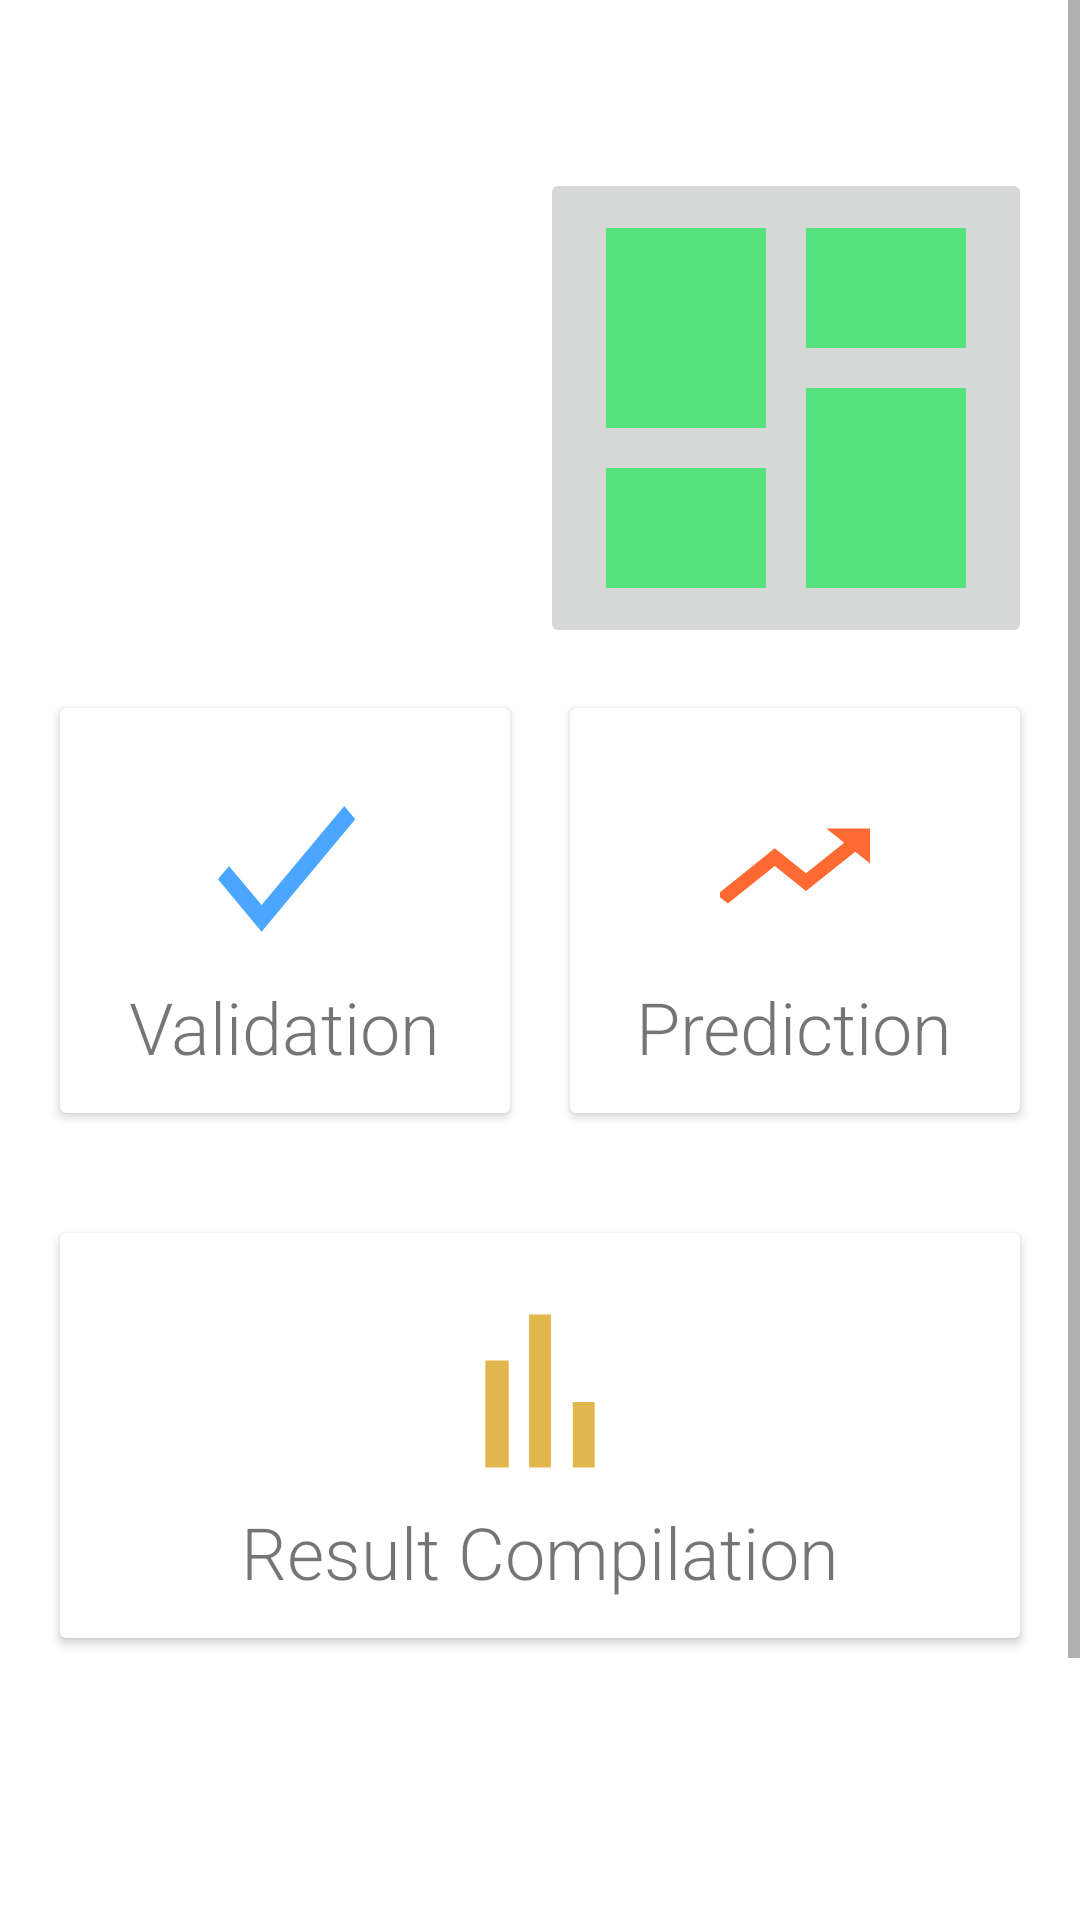

Locate icon controls on the screen. Image size 1080px x 1920px, boxes as detection(x1, y1, x2, y2).
results: detection(485, 1314, 595, 1468)
